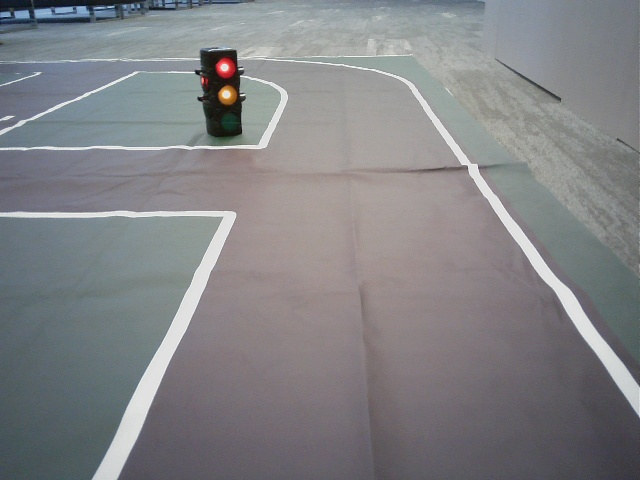red: (211, 50, 239, 133)
